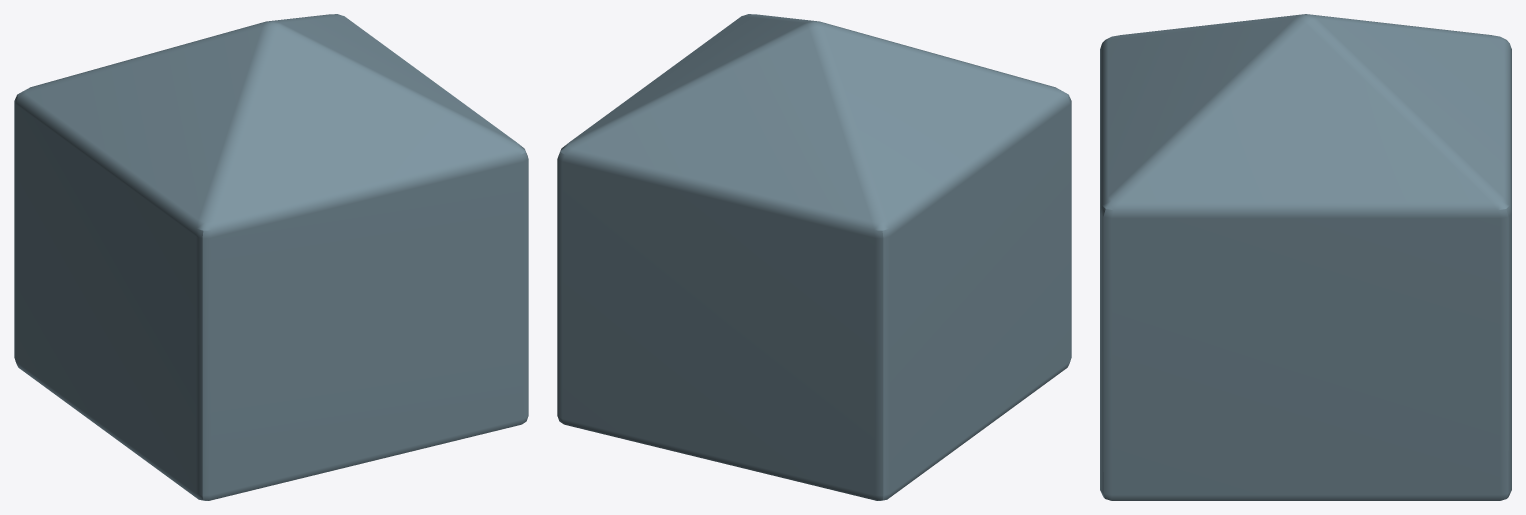
The model's file is stone.fbx.
3 views of the same model, side by side, from view 1: azimuth 30°, elevation 25°; view 2: azimuth 150°, elevation 25°; view 3: azimuth 270°, elevation 25° (orthographic). The views are drawn at different scales.
Visible parts, largest first — view 1: stone; view 2: stone; view 3: stone.
Part boxes in pixels (left/top/right/bottom): stone: left=14, top=14, right=528, bottom=500; stone: left=557, top=14, right=1071, bottom=500; stone: left=1100, top=14, right=1511, bottom=500.
Size of the model in its own units: 742 by 801 by 742.
